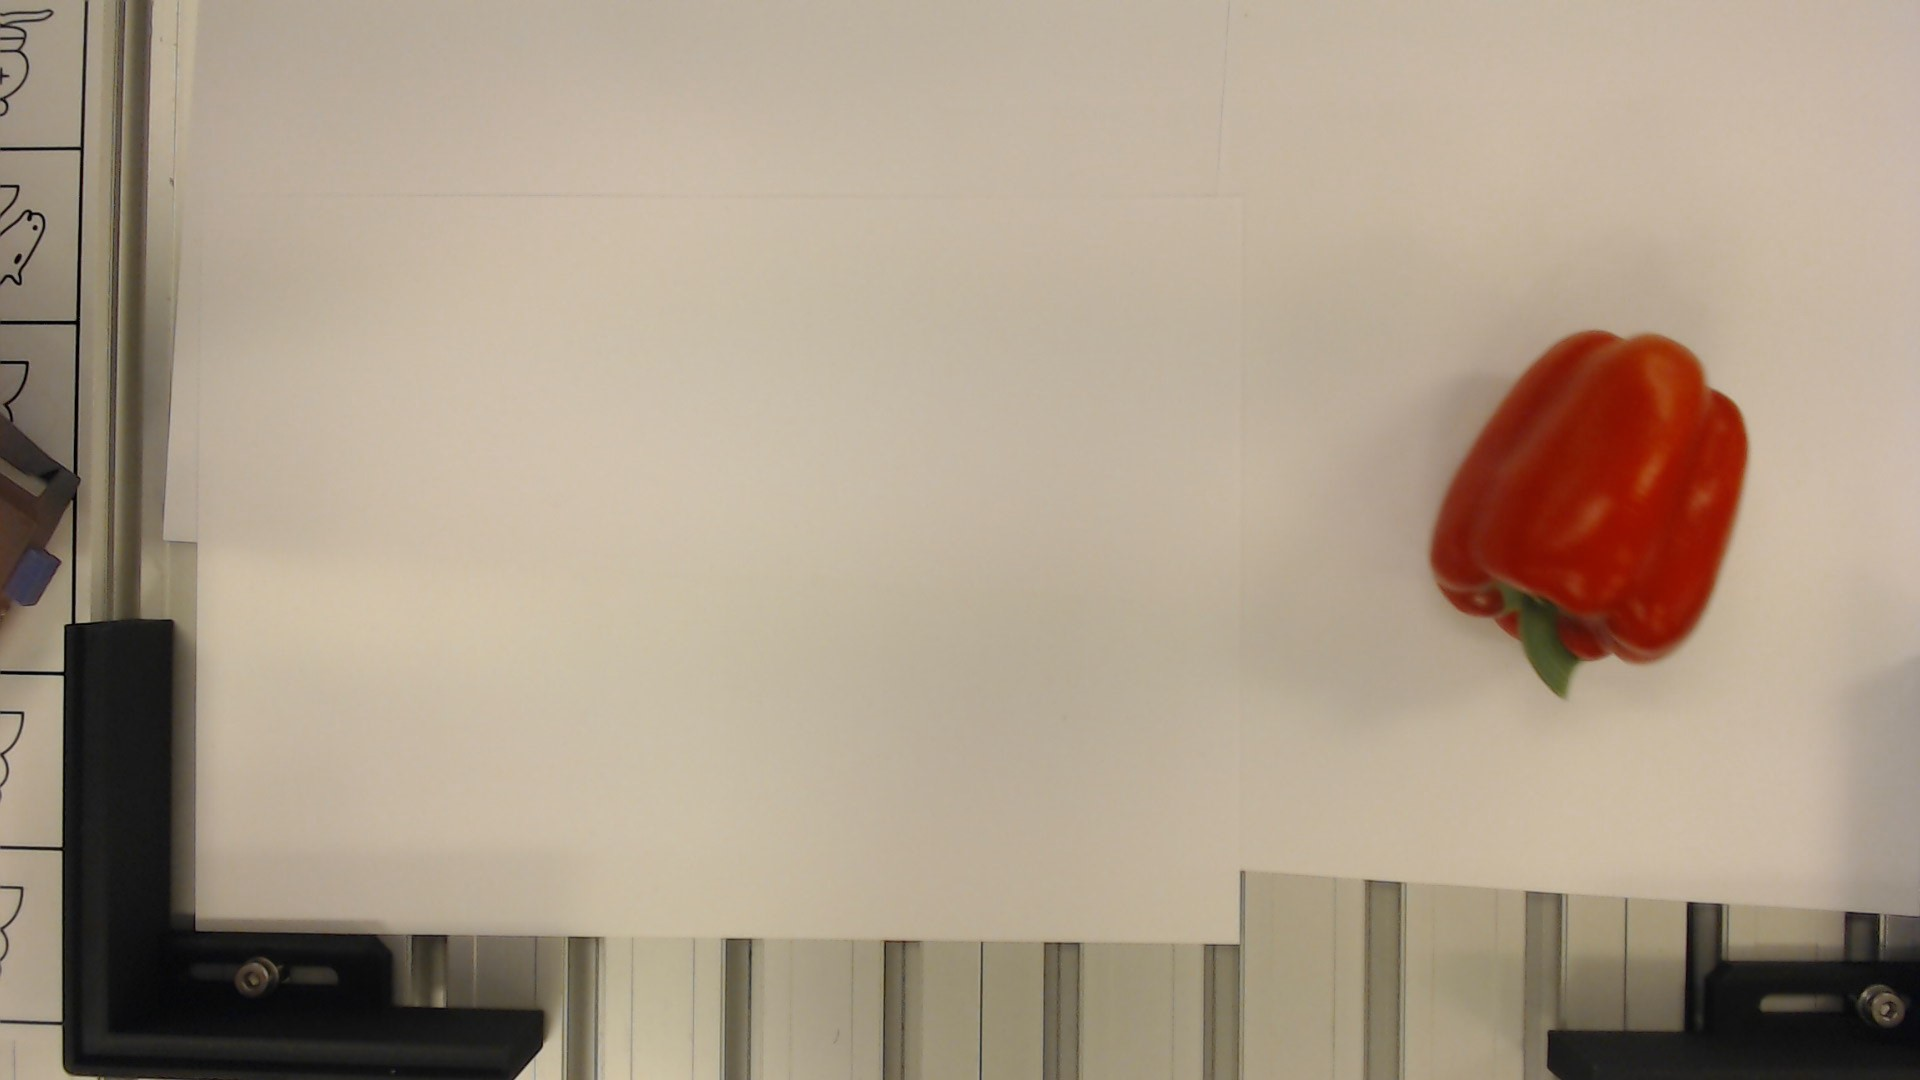Red Bell Pepper: (1436, 306, 1759, 702)
